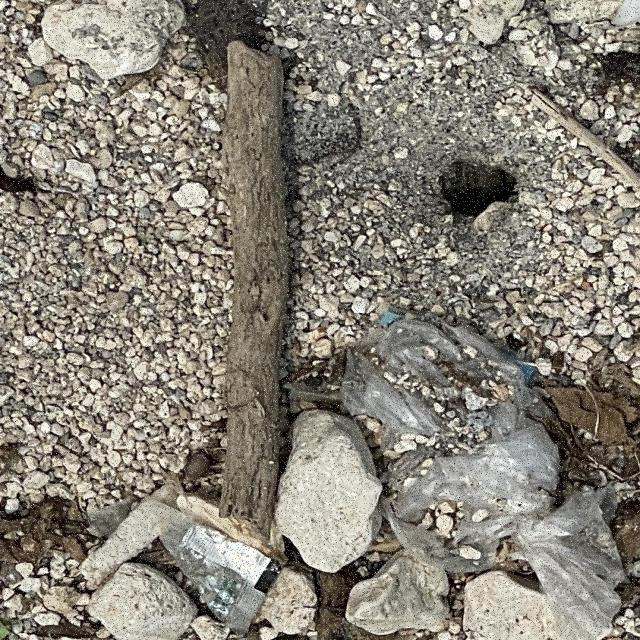wood_waste: (218, 40, 292, 545)
